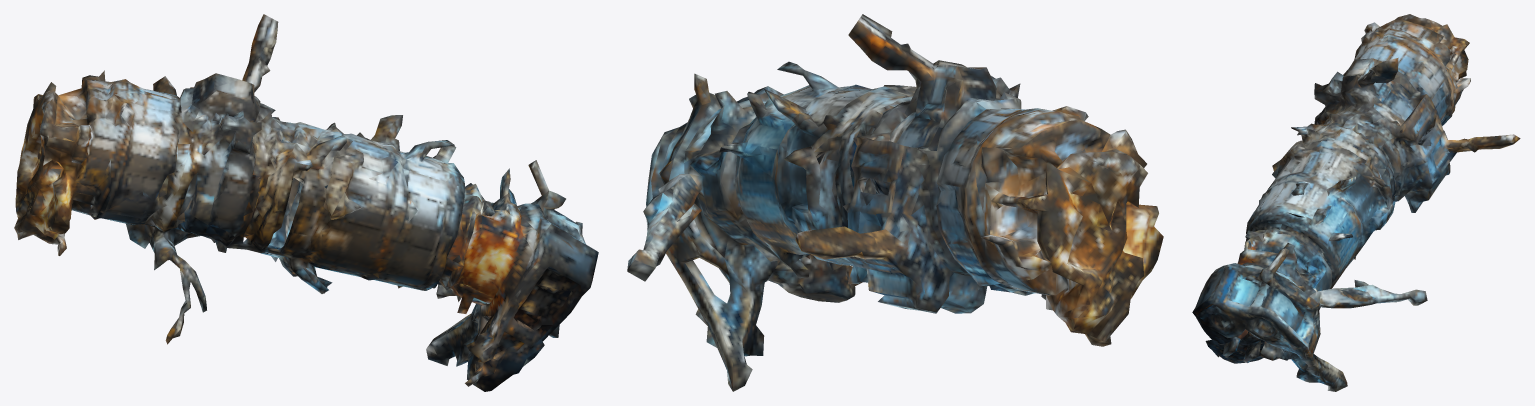
The model's file is station_core.glb.
The picture shows the model from 3 angles, left to right: view 1: azimuth 30°, elevation 25°; view 2: azimuth 150°, elevation 25°; view 3: azimuth 270°, elevation 25°; orthographic projection. The views are drawn at different scales.
Parts seen in each view (by area): view 1: low; view 2: low; view 3: low.
Boxes of the visible parts, x1,y1,x2,y2 form: low: (14, 14, 598, 391); low: (627, 14, 1163, 391); low: (1192, 14, 1520, 391).
Size of the model in its own units: 30 by 21.63 by 23.05.
1 material, 1 textured.
